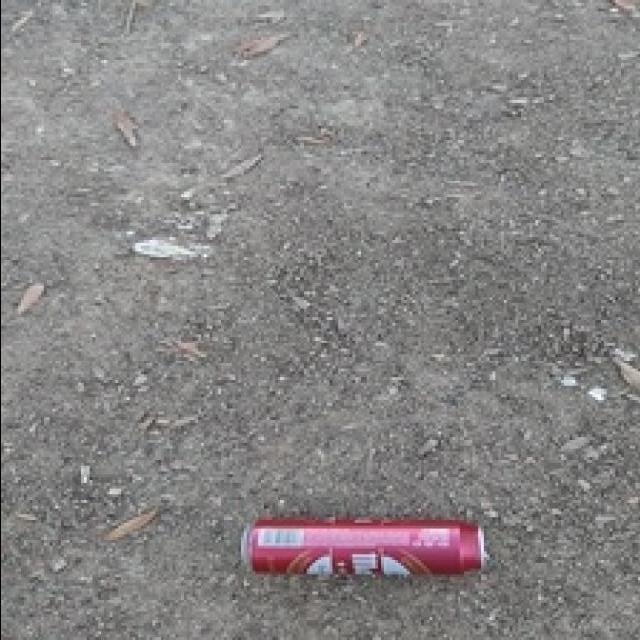can: (244, 516, 486, 581)
